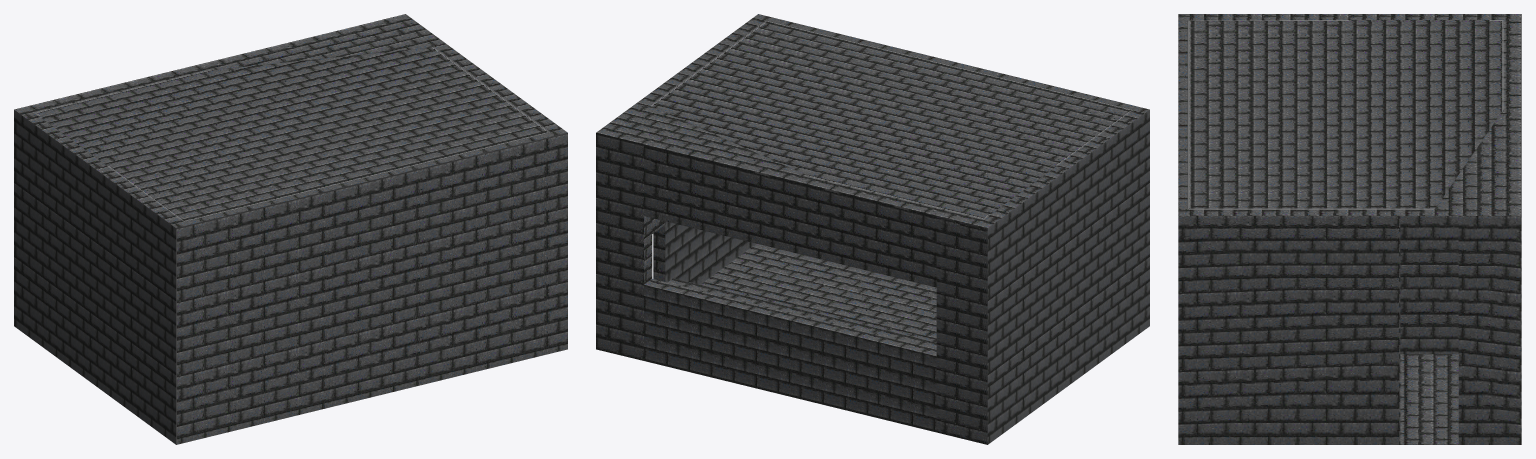
The model's file is tos_gy_bldg01_texture_0001.dae.
3 views of the same model, side by side, from view 1: azimuth 30°, elevation 25°; view 2: azimuth 150°, elevation 25°; view 3: azimuth 270°, elevation 25° (orthographic). The views are drawn at different scales.
Parts seen in each view (by area): view 1: Plane; view 2: Plane; view 3: Plane.
Part boxes in pixels (box(x1,y1,x2,y2)): Plane: box(14, 14, 567, 444); Plane: box(596, 14, 1149, 444); Plane: box(1178, 14, 1521, 444).
Size of the model in its own units: 9.74 by 6.99 by 5.15.
1 material, 1 textured.
